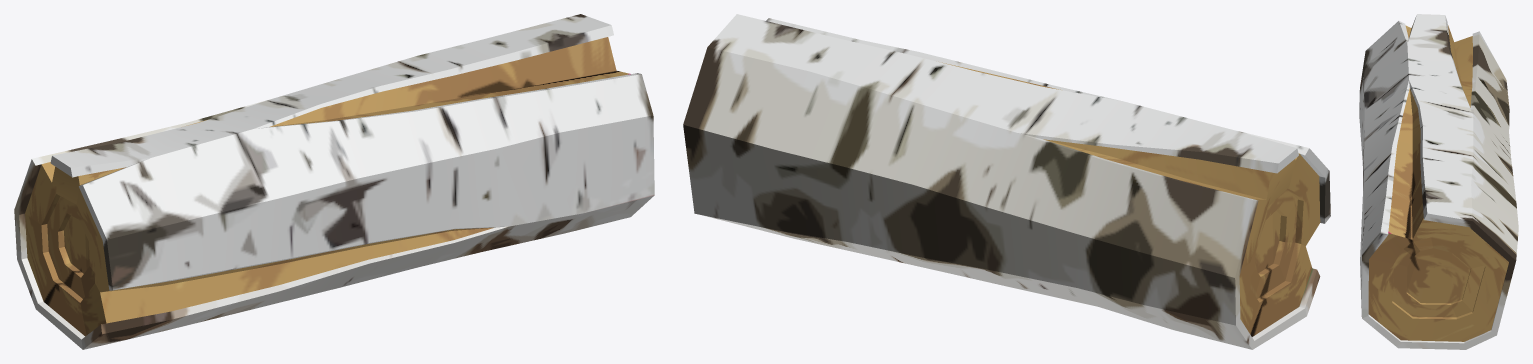
Rendered from Birch Log 1.obj.
The picture shows the model from 3 angles, left to right: view 1: azimuth 30°, elevation 25°; view 2: azimuth 150°, elevation 25°; view 3: azimuth 270°, elevation 25°; orthographic projection. The views are drawn at different scales.
Parts seen in each view (by area): view 1: polySurface1; view 2: polySurface1; view 3: polySurface1.
Part boxes in pixels (<box>): polySurface1: <box>14,14,654,349</box>; polySurface1: <box>683,14,1330,349</box>; polySurface1: <box>1359,14,1518,349</box>.
Size of the model in its own units: 89.3 by 28.64 by 29.71.
